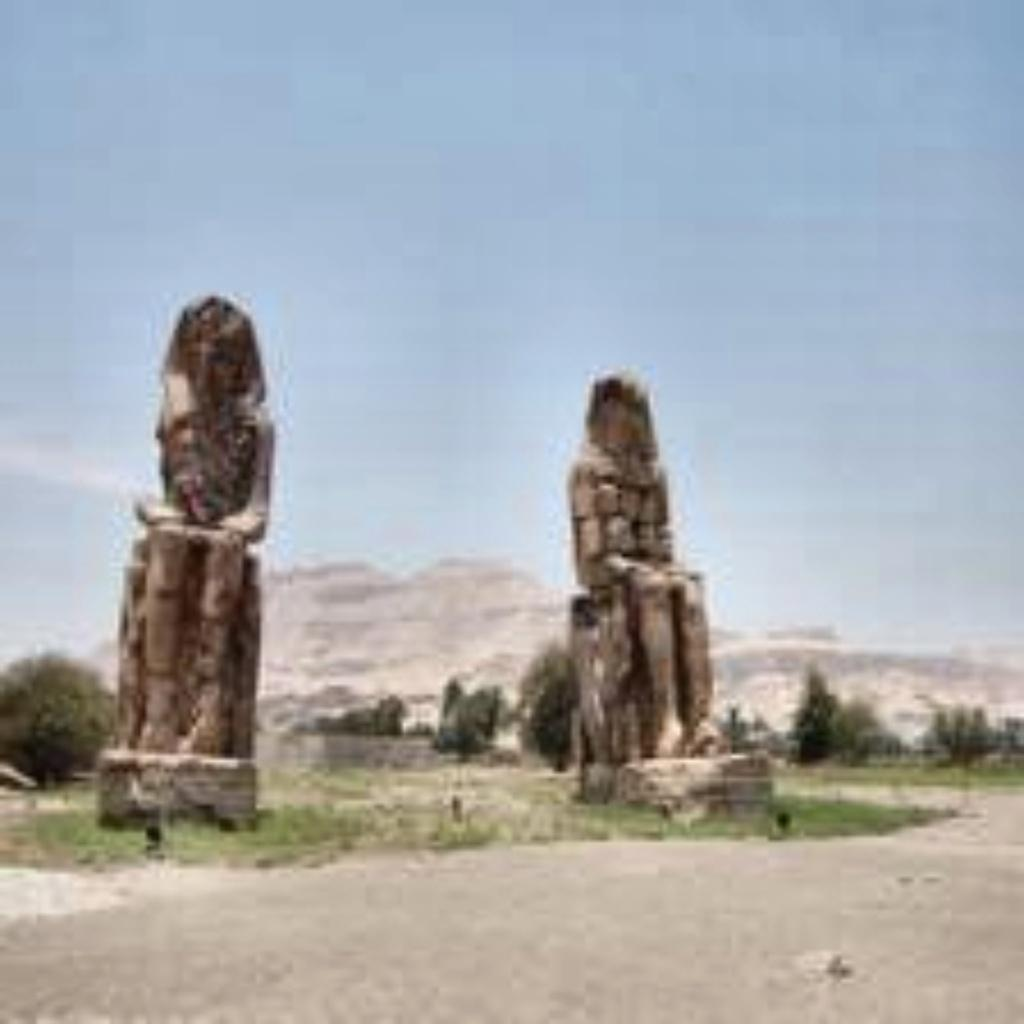Colossoi of Memnon: (512, 361, 768, 814), (86, 288, 284, 837)
